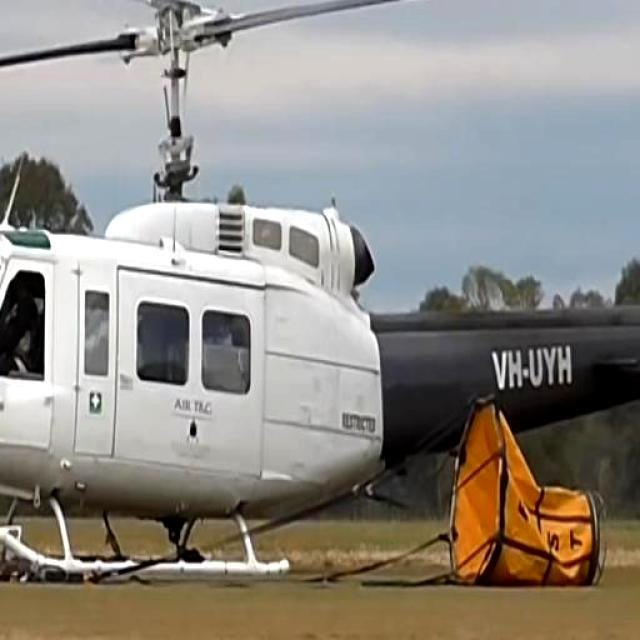drone: (0, 0, 640, 594)
